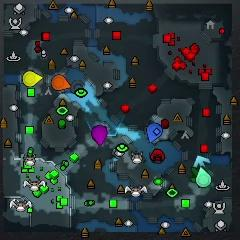p1: (148, 123, 162, 142)
p2: (197, 168, 211, 188)
p3: (92, 125, 108, 145)
p4: (22, 71, 42, 87)
p5: (51, 74, 71, 91)
x3: (195, 155, 211, 168)
x4: (190, 167, 200, 182)
